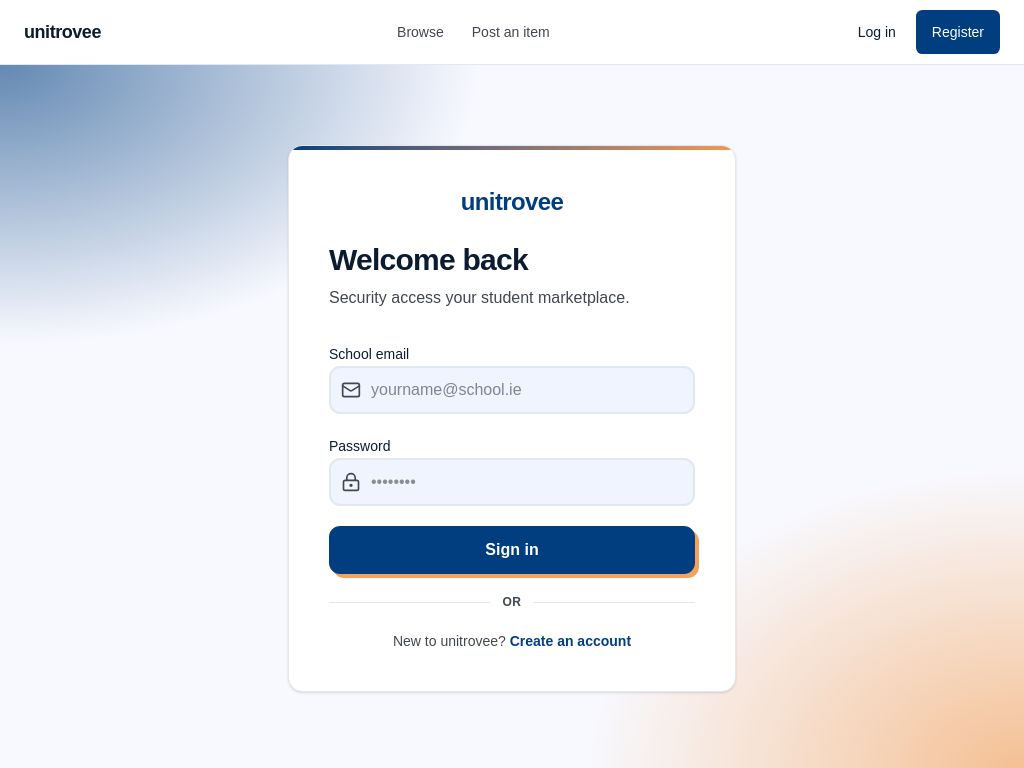
Test: LoginPage › shows a required error when school email is empty
The width and height of the screenshot is (1024, 768).
Click the button "Sign in": [512, 550] box x1=329 y1=526 x2=695 y2=574
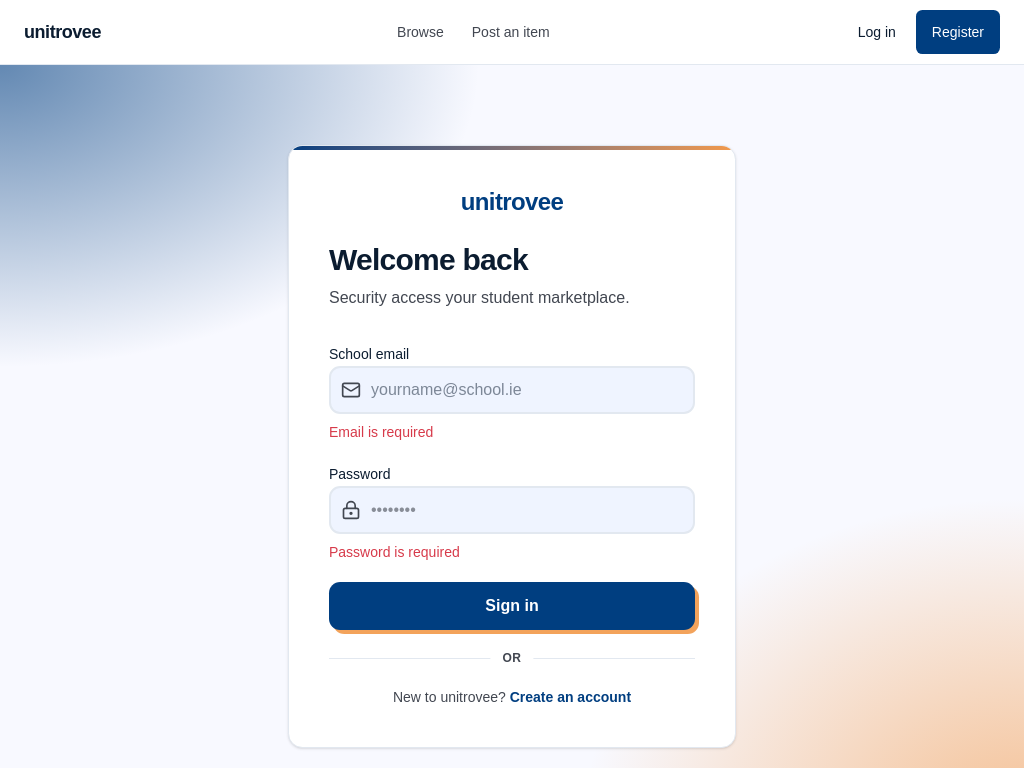
expect the text "Email is required" is shown: met, box x1=329 y1=424 x2=433 y2=440
